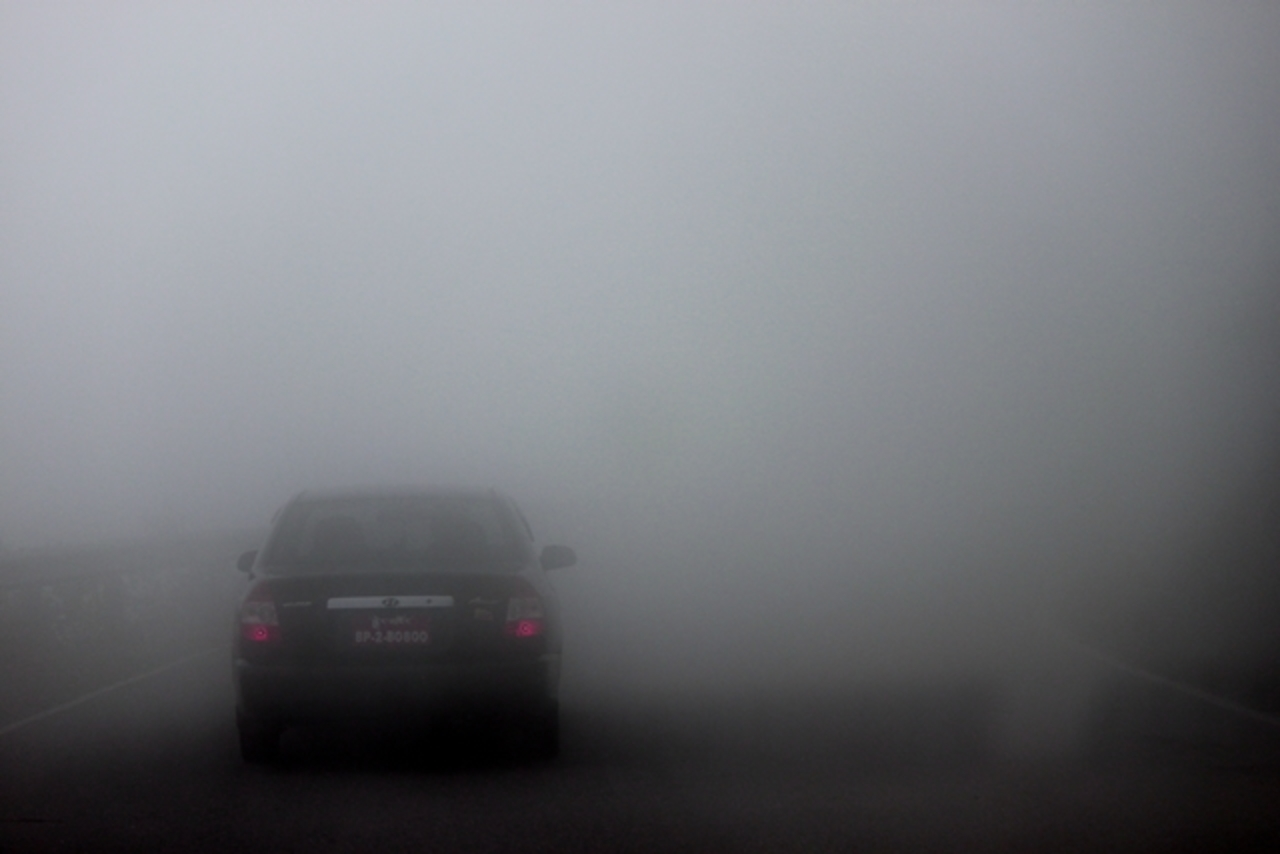car: (227, 487, 565, 770)
